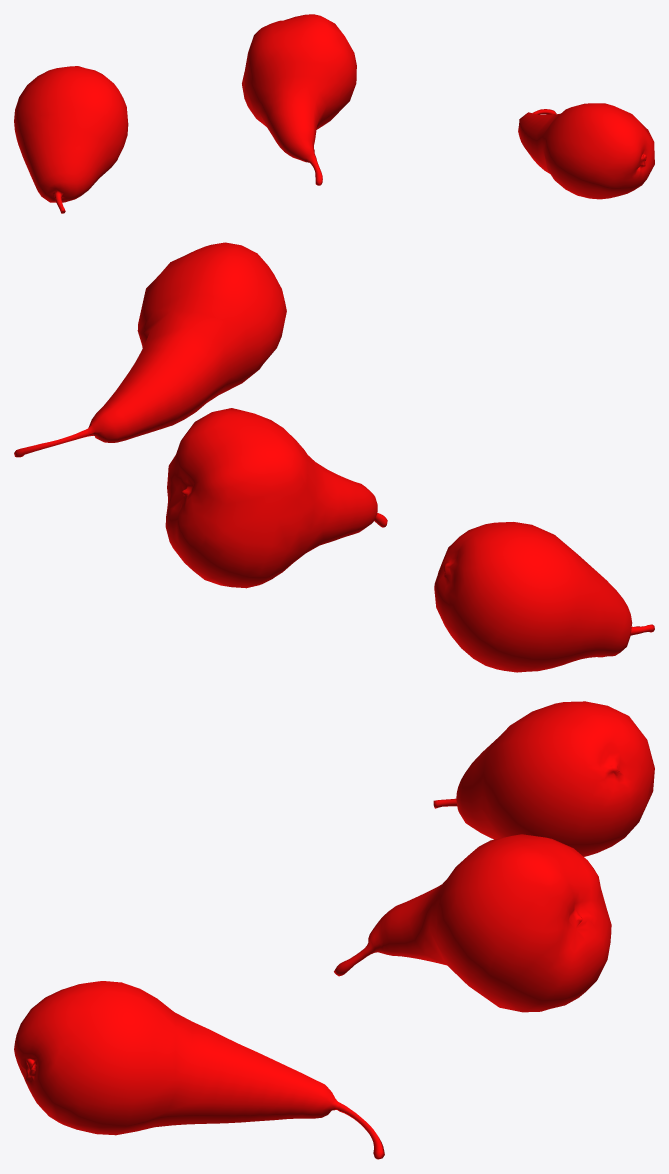
The model's file is pears.fbx.
The picture shows the model from 3 angles, top to bottom: view 1: azimuth 30°, elevation 25°; view 2: azimuth 150°, elevation 25°; view 3: azimuth 270°, elevation 25°; orthographic projection. The views are drawn at different scales.
Visible parts, largest first — view 1: pear2, pear1, pear3; view 2: pear2, pear3, pear1; view 3: pear3, pear2, pear1.
Boxes of the visible parts, x1,y1,x2,y2 form: pear2: [242, 14, 356, 185]; pear1: [14, 66, 128, 213]; pear3: [518, 103, 654, 199]; pear2: [165, 408, 387, 588]; pear3: [14, 242, 286, 457]; pear1: [434, 522, 654, 672]; pear3: [14, 981, 384, 1159]; pear2: [334, 834, 611, 1012]; pear1: [433, 701, 654, 856].
Size of the model in its own units: 0.2609 by 0.059 by 0.202.
